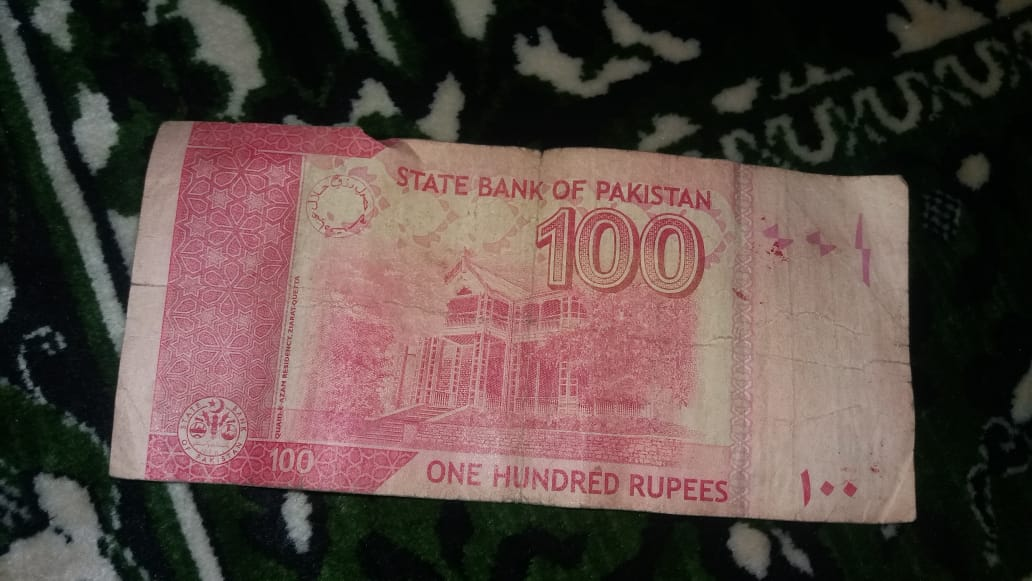100 rupee: (79, 99, 954, 540)
